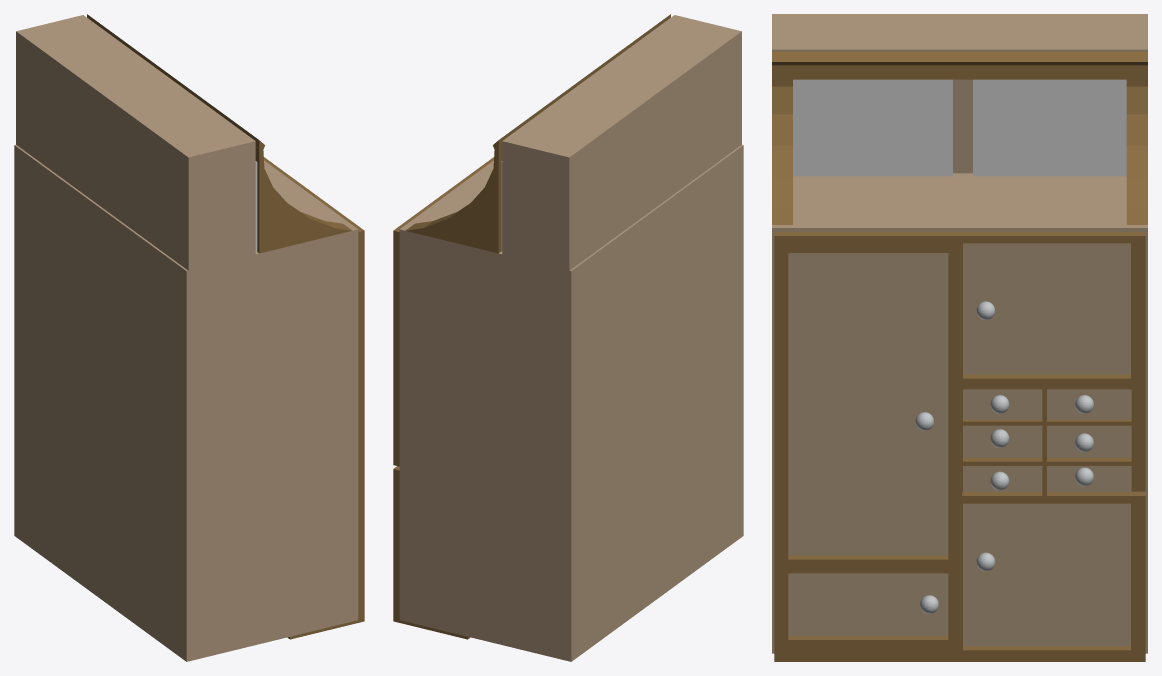
Rendered from Copy of ALMIRAH.glb.
3 views of the same model, side by side, from view 1: azimuth 30°, elevation 25°; view 2: azimuth 150°, elevation 25°; view 3: azimuth 270°, elevation 25° (orthographic). The views are drawn at different scales.
Visible parts, largest first — view 1: Mesh_Mesh_head_geo.001_lambert2SG.001; view 2: Mesh_Mesh_head_geo.001_lambert2SG.001; view 3: Mesh_Mesh_head_geo.001_lambert2SG.001.
Boxes of the visible parts, box(x1,y1,x2,y2) form: Mesh_Mesh_head_geo.001_lambert2SG.001: box(14, 14, 364, 661); Mesh_Mesh_head_geo.001_lambert2SG.001: box(393, 14, 743, 661); Mesh_Mesh_head_geo.001_lambert2SG.001: box(772, 14, 1147, 661).
Bounding box in the file's own units: 49 × 130 × 80.
